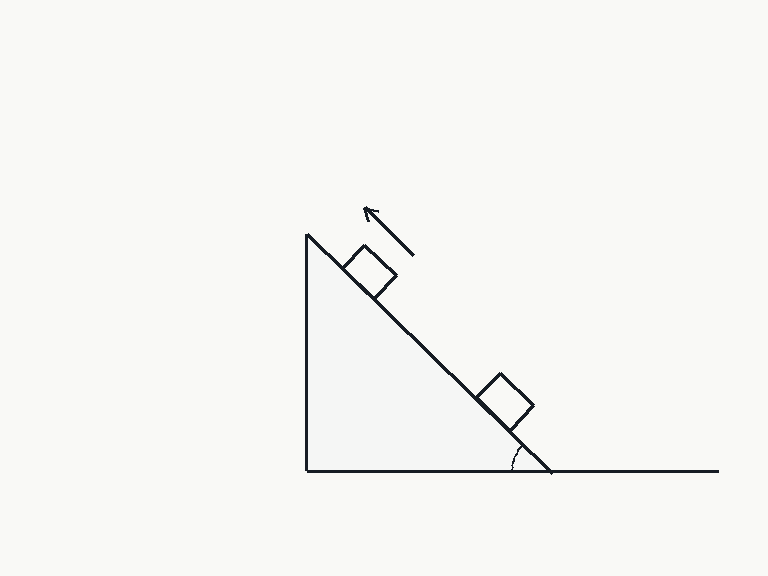block: (474, 371, 535, 432), (340, 243, 398, 301)
ramp: (305, 232, 554, 473)
